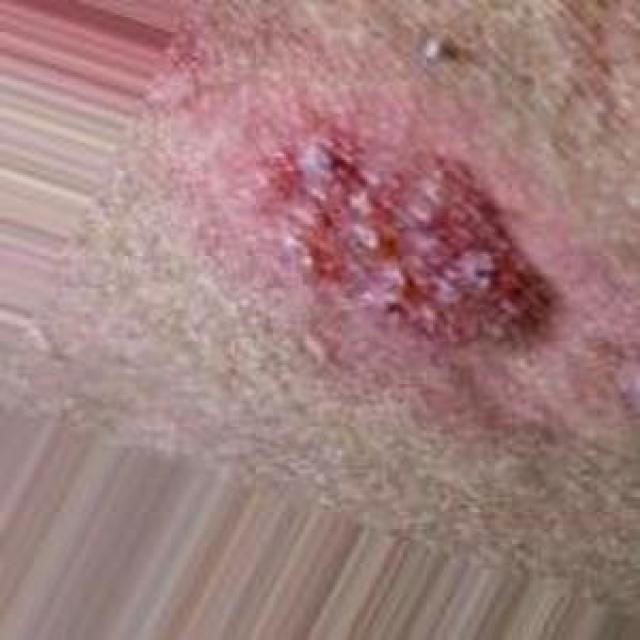Shingles: (251, 124, 560, 350)
